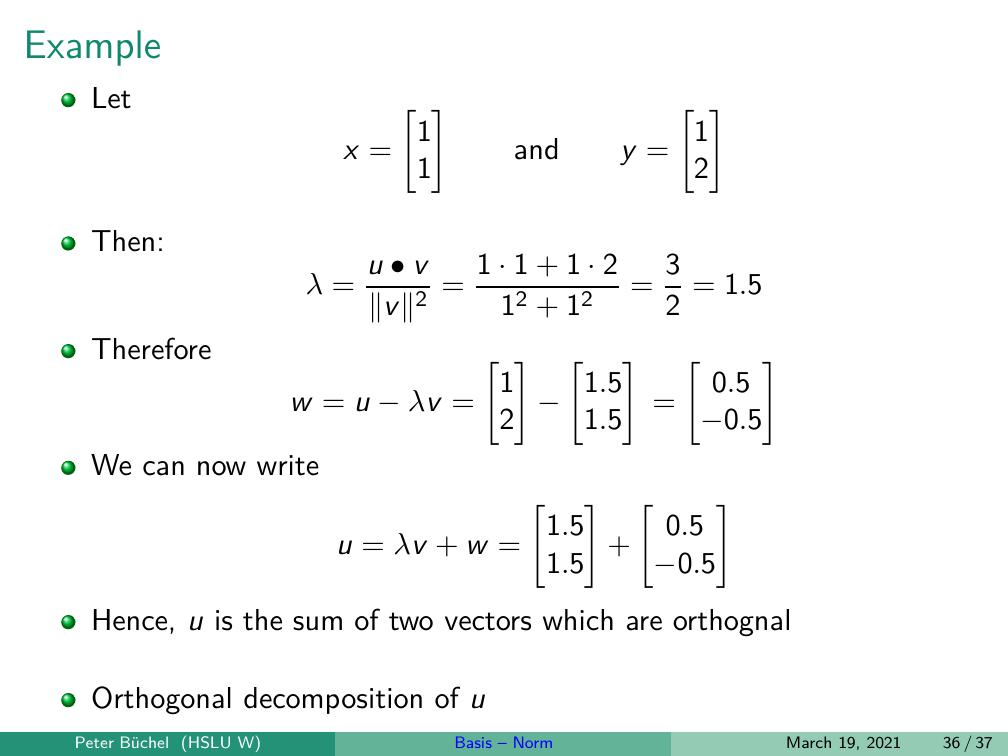Title: (20, 23, 168, 68)
